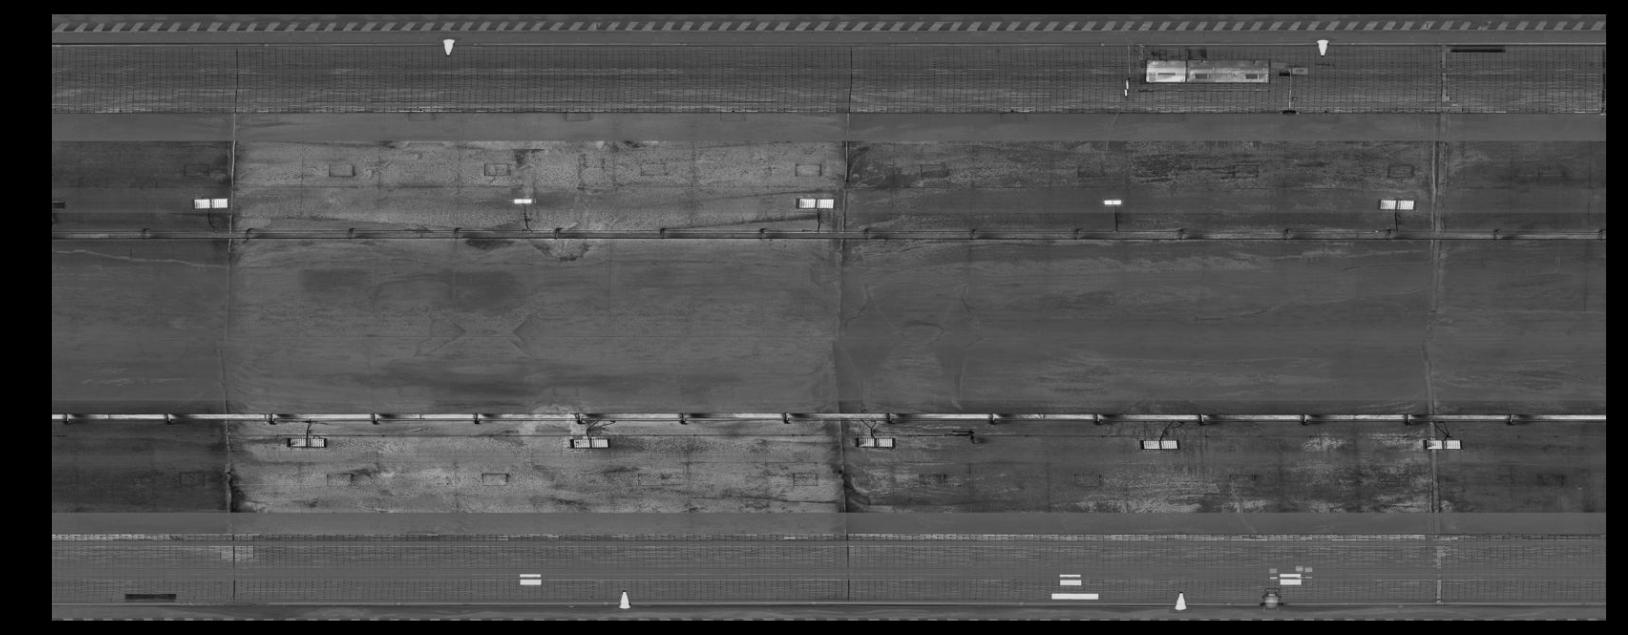light: (281, 433, 330, 451), (563, 435, 612, 453), (1135, 436, 1184, 454), (850, 433, 898, 451), (1419, 436, 1465, 452), (187, 193, 230, 210), (1373, 196, 1418, 212), (794, 194, 837, 211), (508, 196, 538, 206), (1098, 197, 1128, 208)
